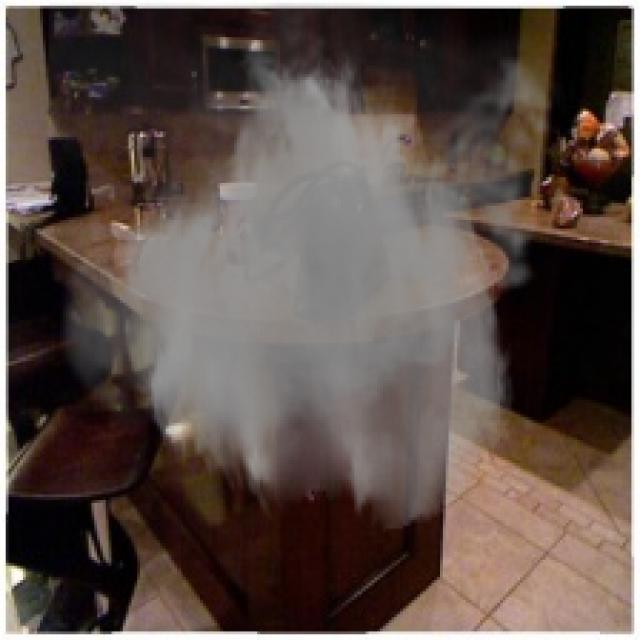smoke: (49, 3, 568, 534)
